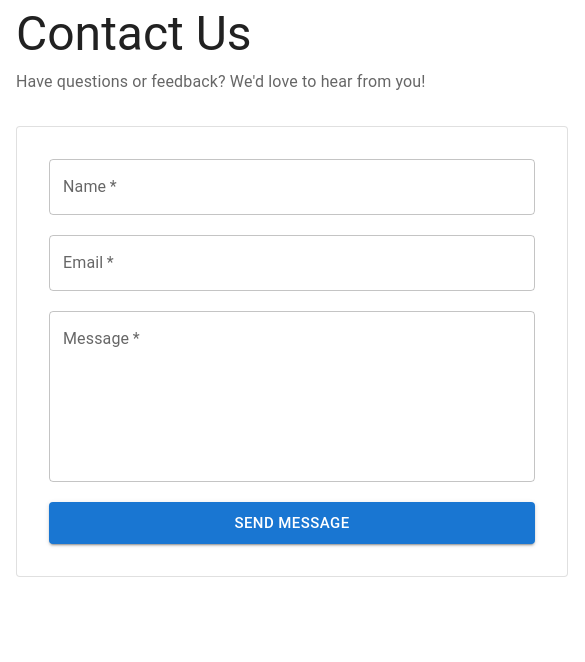
ContactUs Component › shows success message on successful submission
The width and height of the screenshot is (585, 662).
Type "John Doe" into the field labelled "Name *" at (292, 187), box [49,159,535,215]
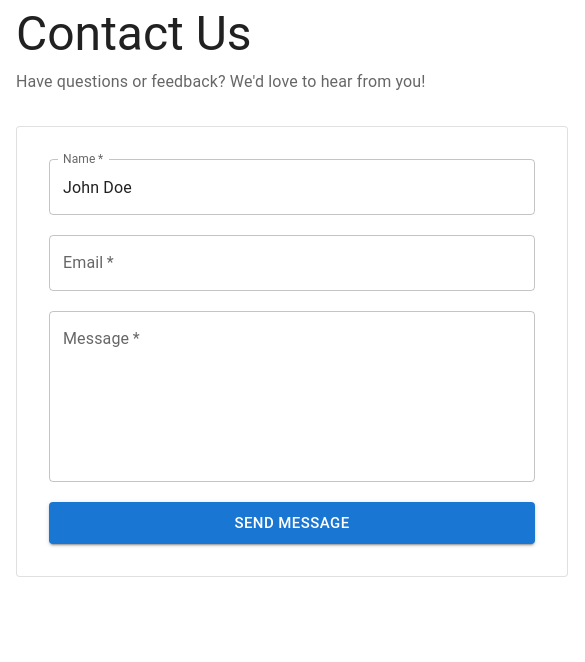
Type "john@example.com" into the field labelled "Email *" at (292, 263), box [49,235,535,291]
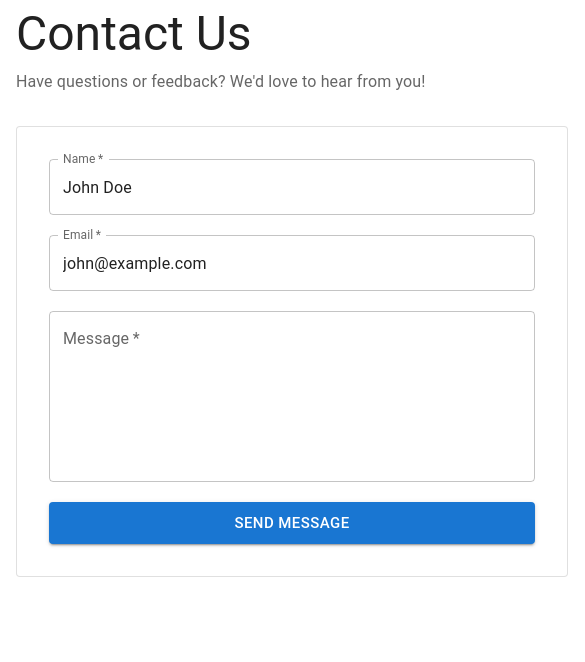
Type "Test message" into the text box labelled "Message *" at (292, 396), box [63,328,521,466]
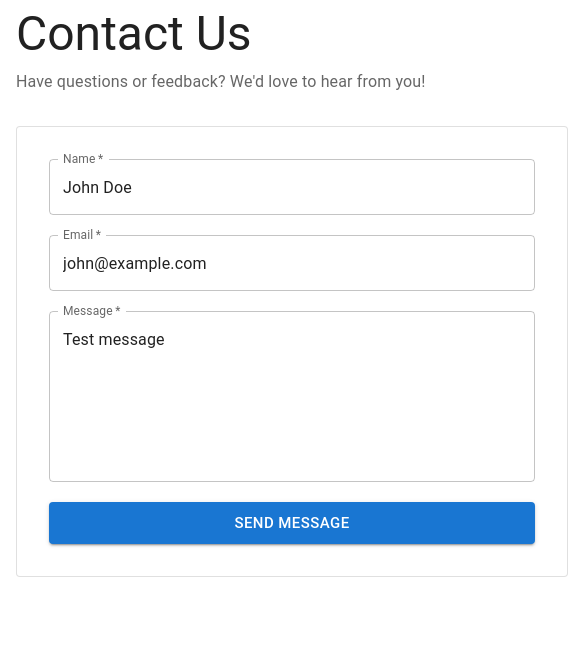
Click the button "Send Message" at (292, 523), box [49,502,535,544]
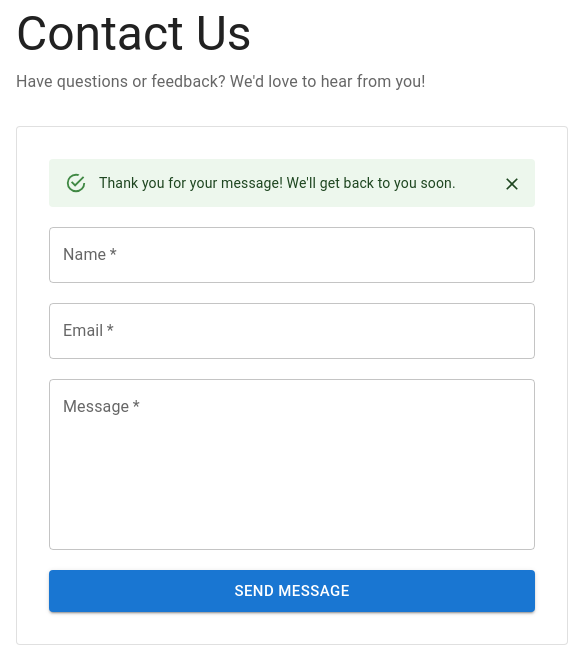
expect the text "Thank you for your message! We'll get back to you soon." is shown: met, box [99,175,456,191]
